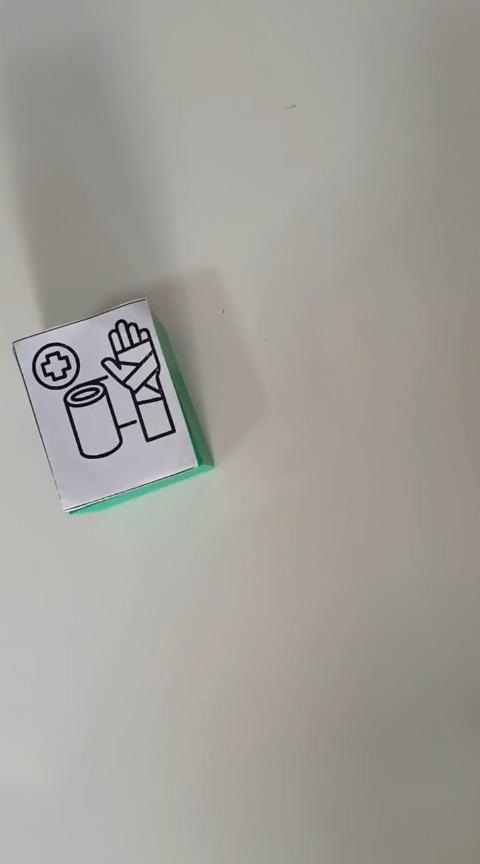Bandages: (11, 295, 214, 513)
